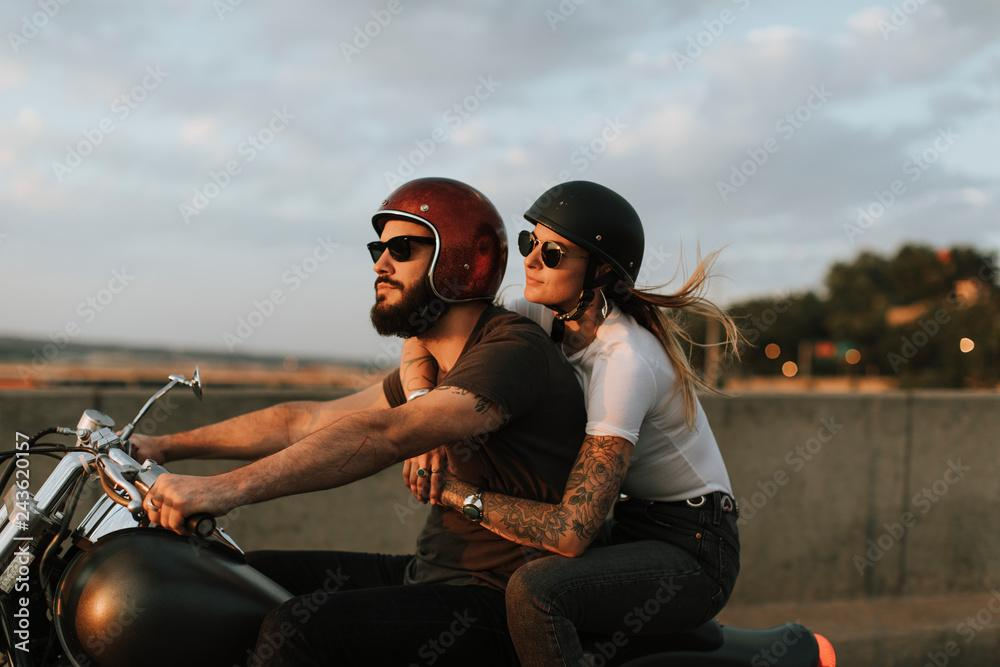helmet: (366, 176, 509, 340), (517, 179, 646, 322)
